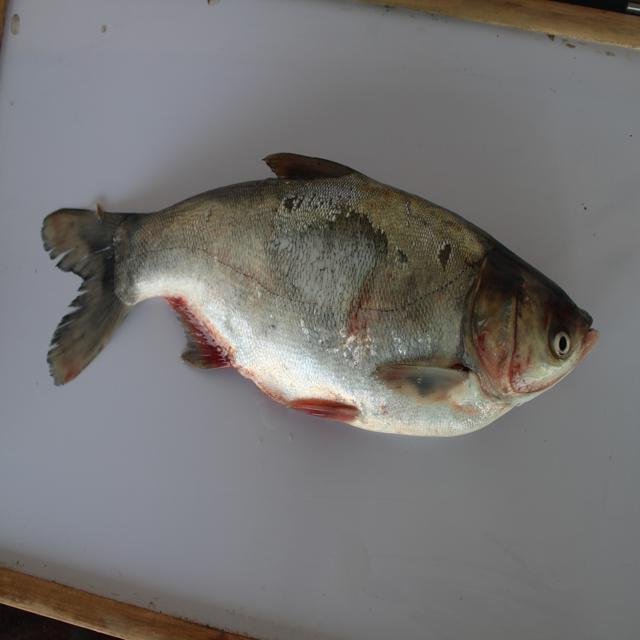SilverCarp: (28, 166, 593, 442)
